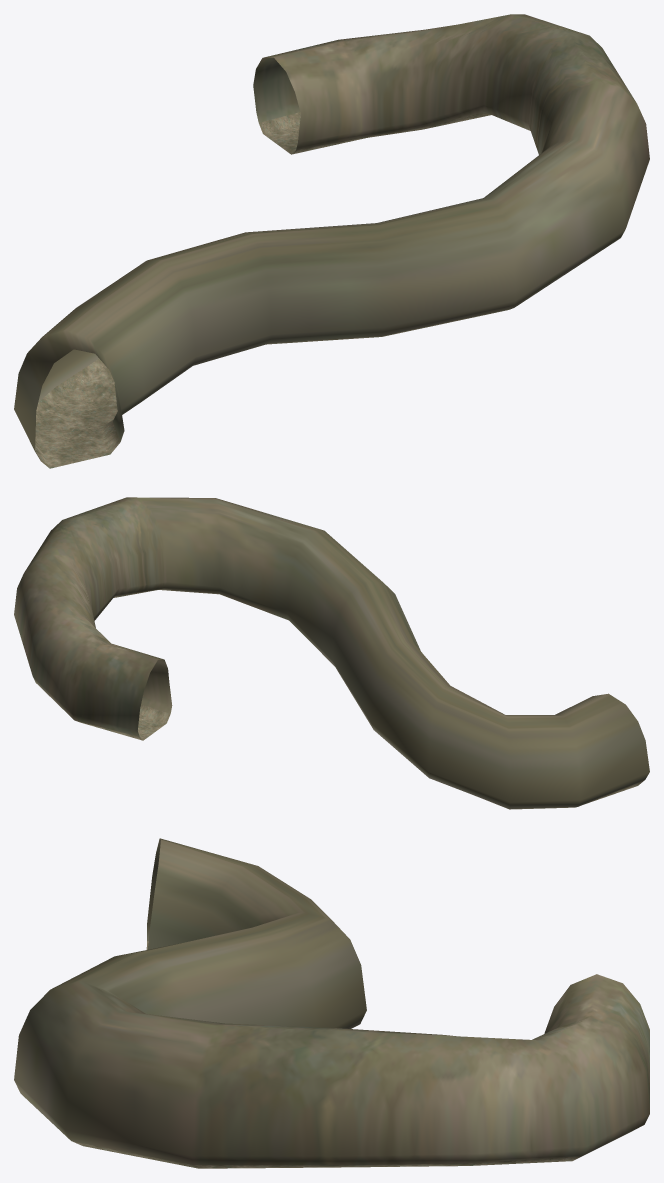
Rendered from OVERHILL_A_01_CM_TUNNEL_08.fbx.
3 views of the same model, one above another, from view 1: azimuth 30°, elevation 25°; view 2: azimuth 150°, elevation 25°; view 3: azimuth 270°, elevation 25° (orthographic). The views are drawn at different scales.
Visible parts, largest first — view 1: OVERHILL_A_01_CM_TUNNEL_08; view 2: OVERHILL_A_01_CM_TUNNEL_08; view 3: OVERHILL_A_01_CM_TUNNEL_08.
Boxes of the visible parts, left/top/right/bottom form: OVERHILL_A_01_CM_TUNNEL_08: left=14, top=14, right=649, bottom=468; OVERHILL_A_01_CM_TUNNEL_08: left=14, top=497, right=649, bottom=809; OVERHILL_A_01_CM_TUNNEL_08: left=14, top=838, right=649, bottom=1168.
Size of the model in its own units: 236166 by 80518 by 156398.
1 material, 1 textured.
